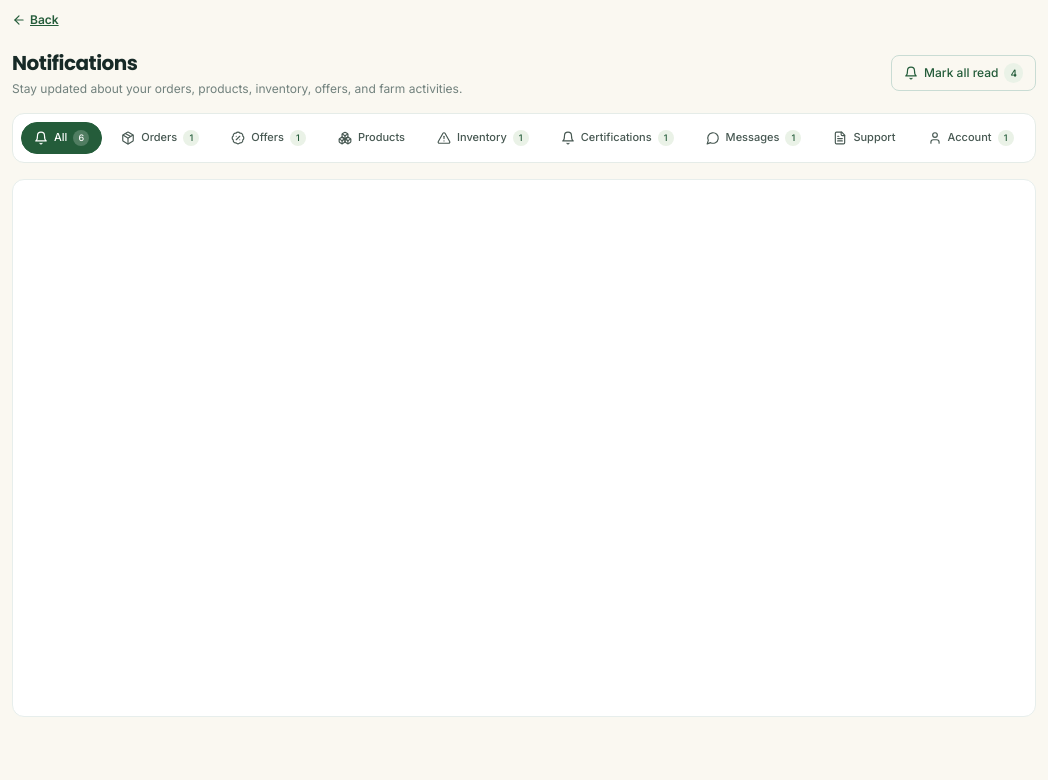
Test: Farmer Notification Centre › Orders displays order notifications
Click the button "Orders 1". click: coordinates (160, 138)
box: top-left (108, 122), bottom-right (212, 154)
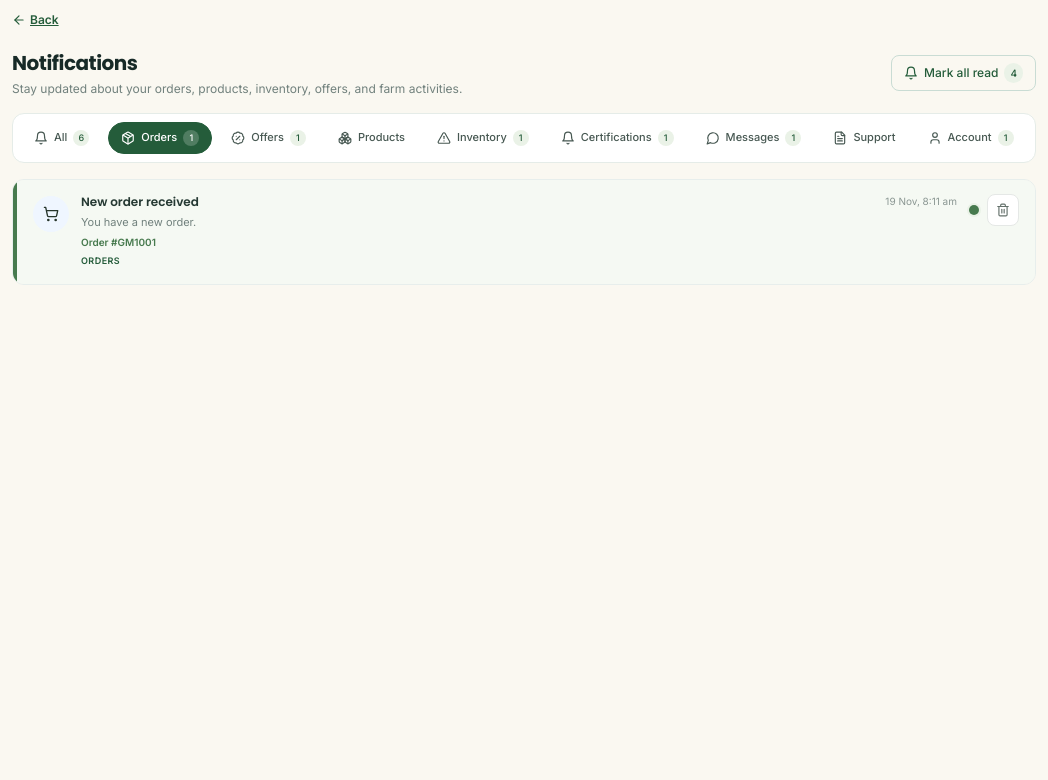
Expected: the button "New order received" is shown, top-left (81, 194), bottom-right (199, 210)
